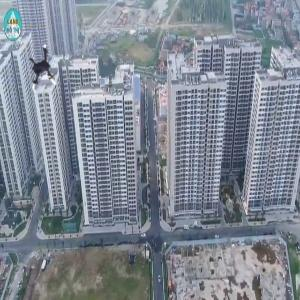drone: (20, 45, 73, 98)
